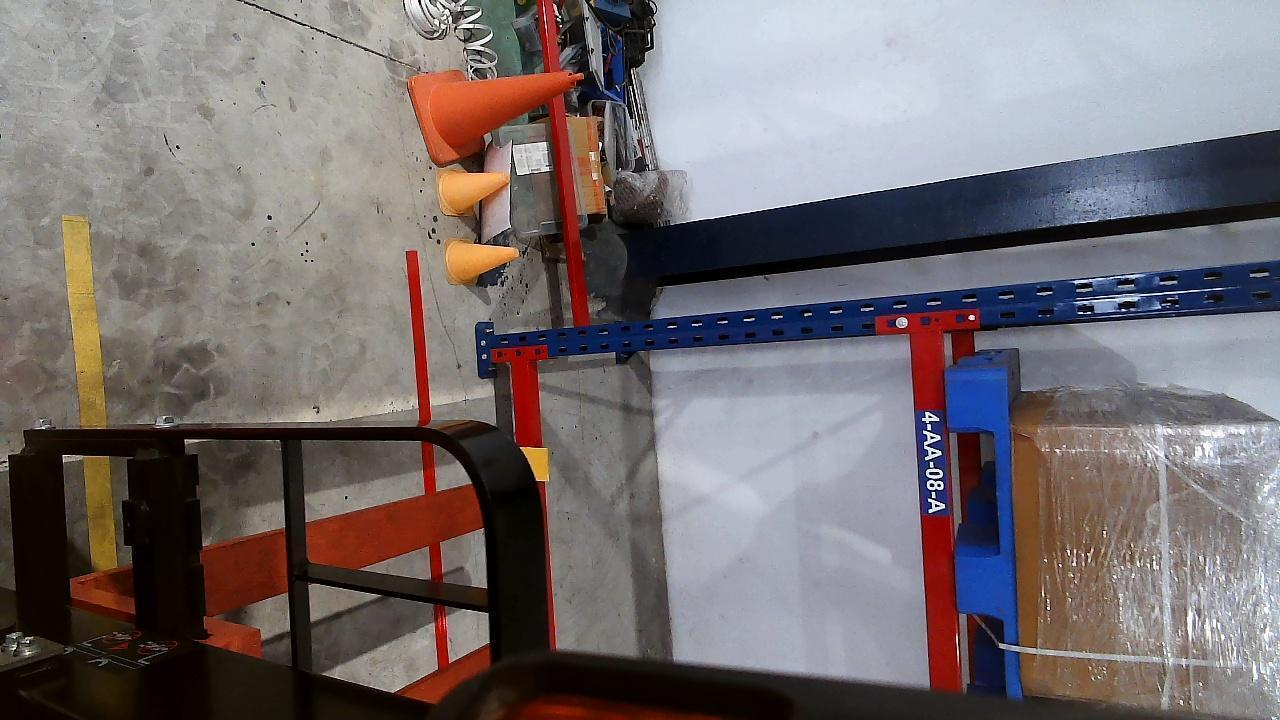red_line: (404, 248, 434, 490)
yellow_line: (60, 215, 120, 567)
